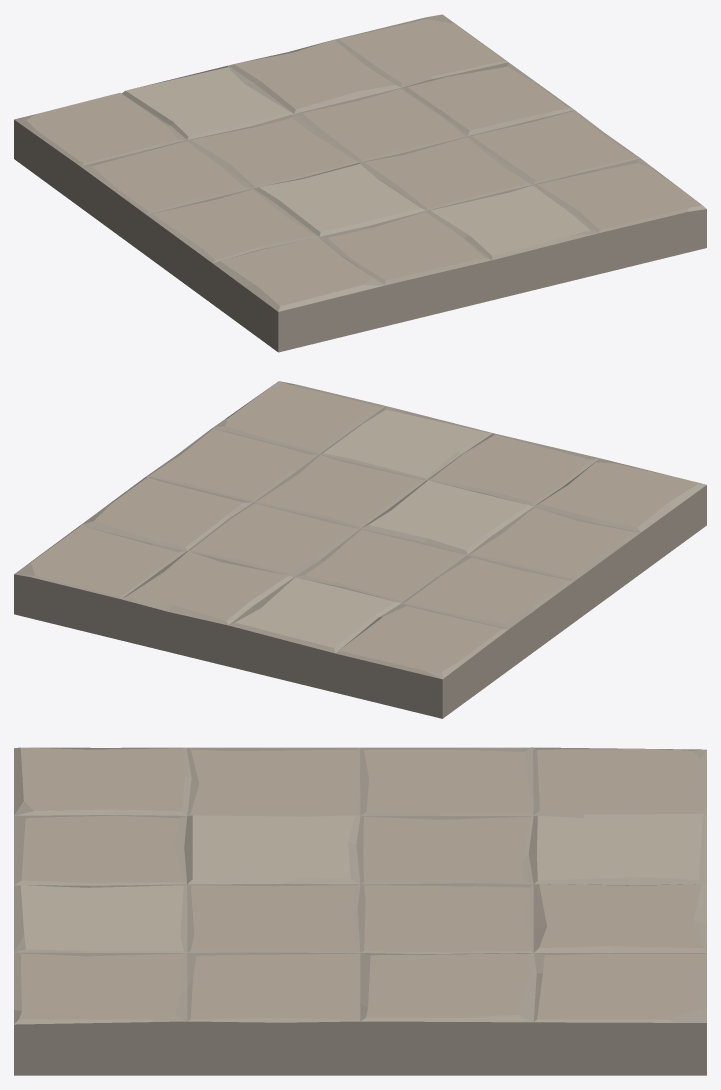
The model's file is SM_Bld_Tiles_01.glb.
3 renders of one model, top to bottom at view 1: azimuth 30°, elevation 25°; view 2: azimuth 150°, elevation 25°; view 3: azimuth 270°, elevation 25°, orthographic. The views are drawn at different scales.
Parts seen in each view (by area): view 1: SM_Bld_Tiles_01; view 2: SM_Bld_Tiles_01; view 3: SM_Bld_Tiles_01.
Part boxes in pixels (<box>): SM_Bld_Tiles_01: <box>14,14,706,352</box>; SM_Bld_Tiles_01: <box>14,381,706,718</box>; SM_Bld_Tiles_01: <box>14,747,706,1075</box>.
Bounding box in the file's own units: 10.73 × 1.04 × 11.47.
1 material, 1 textured.
